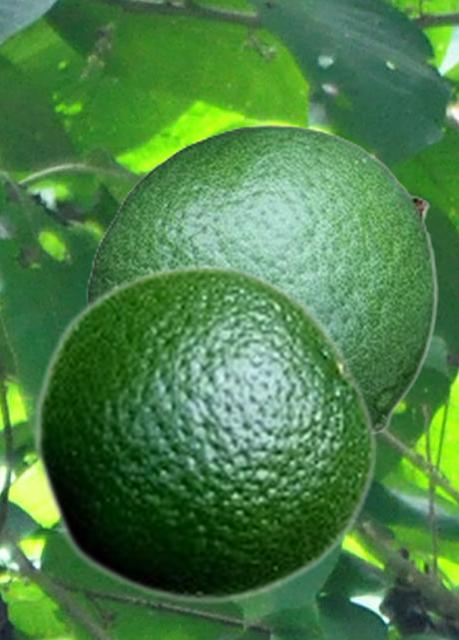calamansi: (32, 262, 378, 605), (86, 123, 437, 438)
